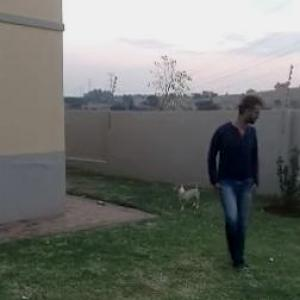follow: (202, 89, 261, 268)
